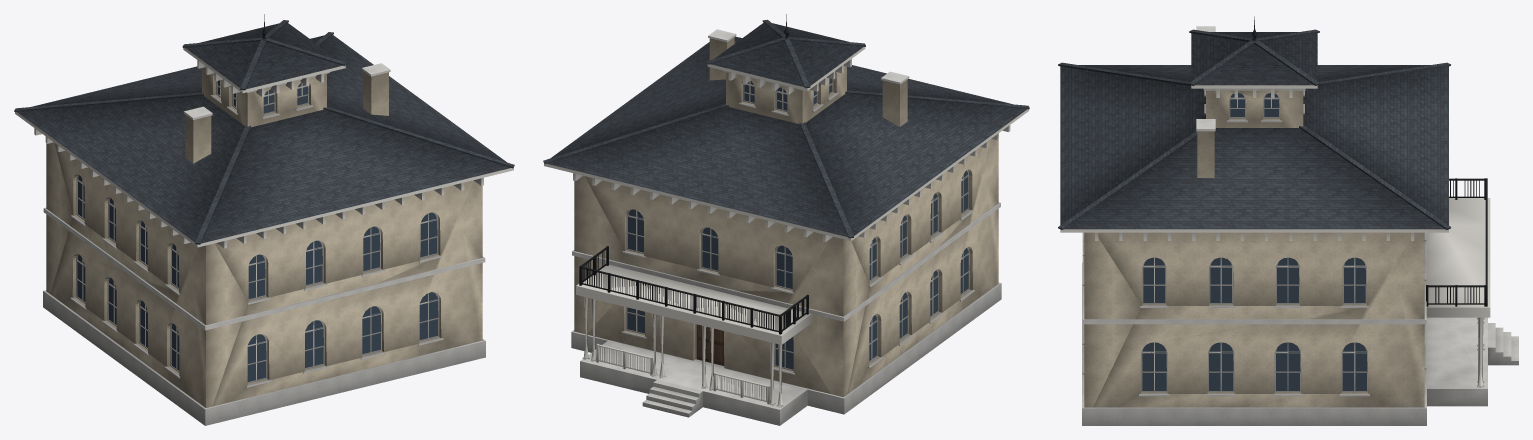
File: italianate-mansion_lod0.glb
3 views of the same model, side by side, from view 1: azimuth 30°, elevation 25°; view 2: azimuth 150°, elevation 25°; view 3: azimuth 270°, elevation 25° (orthographic). The views are drawn at different scales.
Parts seen in each view (by area): view 1: italianate-mansion; view 2: italianate-mansion; view 3: italianate-mansion.
Boxes of the visible parts, x1,y1,x2,y2 form: italianate-mansion: [14, 14, 514, 425]; italianate-mansion: [543, 14, 1029, 425]; italianate-mansion: [1058, 16, 1518, 425].
Bounding box in the file's own units: 16.18 × 15.4 × 18.97.
Materials: 7 (5 with a texture image).
